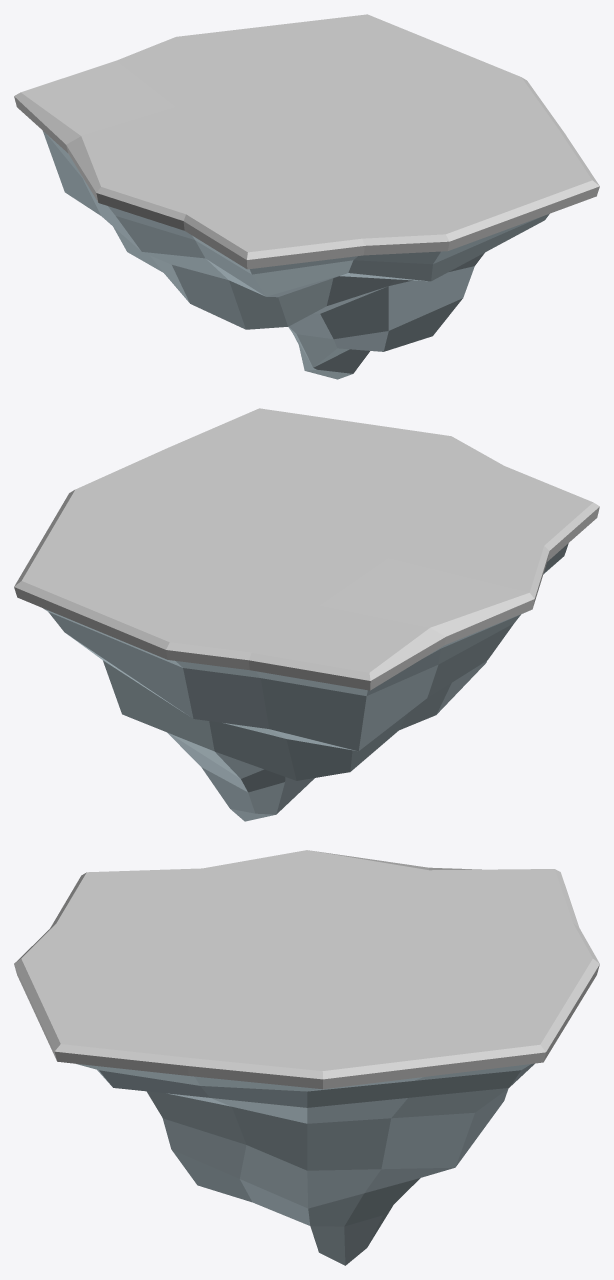
The model's file is Ice_IslandLarge.fbx.
3 renders of one model, top to bottom at view 1: azimuth 30°, elevation 25°; view 2: azimuth 150°, elevation 25°; view 3: azimuth 270°, elevation 25°, orthographic. The views are drawn at different scales.
Parts seen in each view (by area): view 1: Ice_Island_Medium; view 2: Ice_Island_Medium; view 3: Ice_Island_Medium.
Boxes of the visible parts, bbox=[...] form: Ice_Island_Medium: bbox=[14, 14, 599, 379]; Ice_Island_Medium: bbox=[14, 408, 599, 821]; Ice_Island_Medium: bbox=[14, 850, 599, 1265].
Size of the model in its own units: 12255 by 7167 by 13393.
